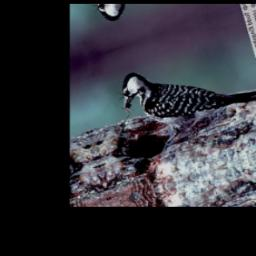Woodpecker: (112, 33, 256, 153)
